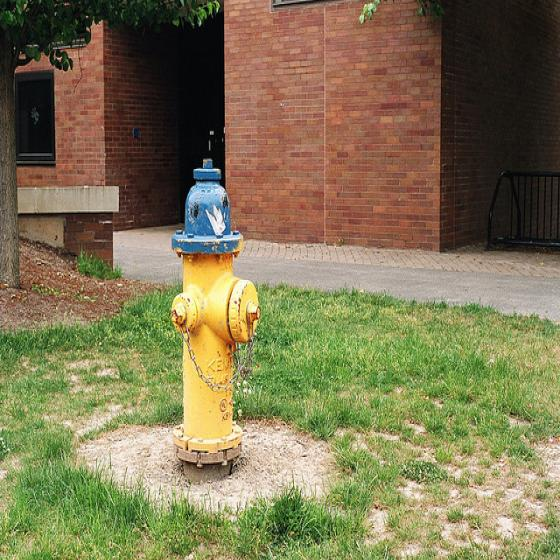fire hydrant: (170, 157, 259, 479)
